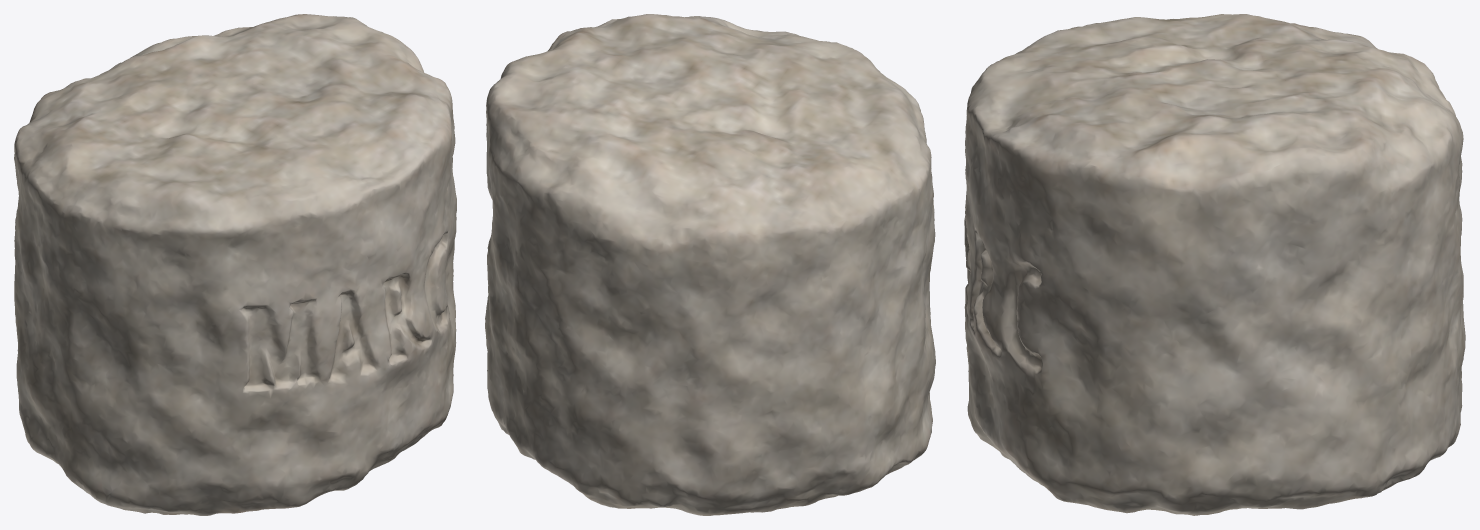
Rendered from 15_PERD_corcoya.glb.
3 views of the same model, side by side, from view 1: azimuth 30°, elevation 25°; view 2: azimuth 150°, elevation 25°; view 3: azimuth 270°, elevation 25° (orthographic). The views are drawn at different scales.
Visible parts, largest first — view 1: CORCOYA_LP; view 2: CORCOYA_LP; view 3: CORCOYA_LP.
Boxes of the visible parts, x1=… form: CORCOYA_LP: x1=14, y1=14, x2=456, y2=515; CORCOYA_LP: x1=485, y1=14, x2=935, y2=515; CORCOYA_LP: x1=964, y1=14, x2=1465, y2=515.
Size of the model in its own units: 0.3585 by 0.3233 by 0.3604.
Materials: 1 (1 with a texture image).
